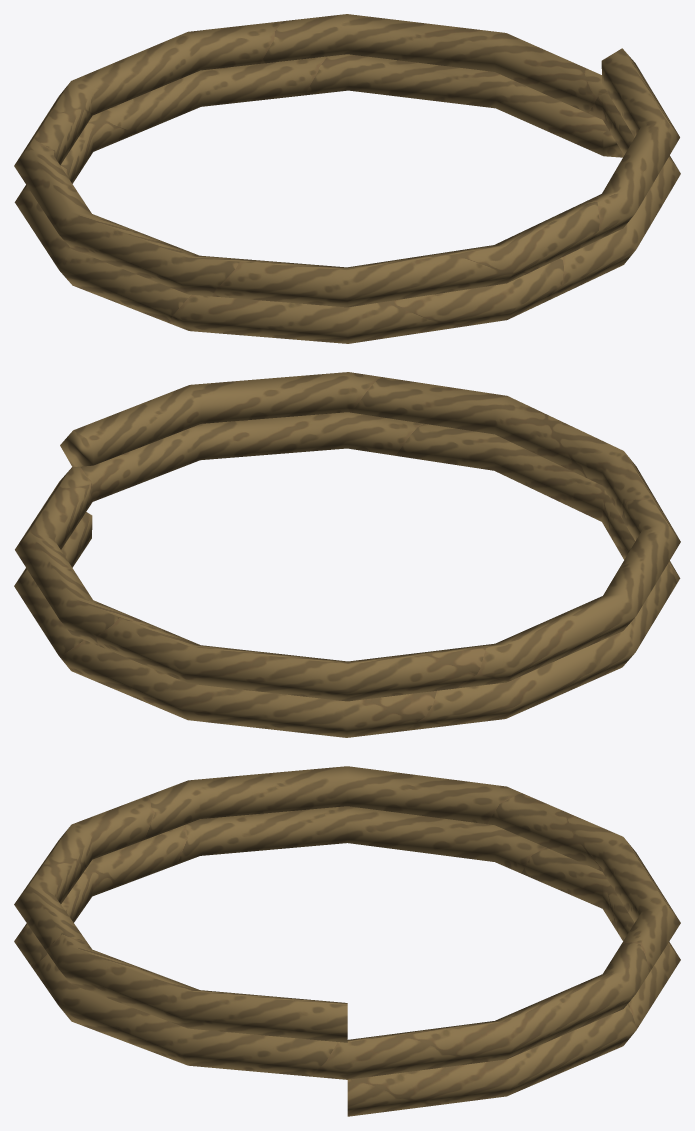
Rendered from Rope.fbx.
3 renders of one model, top to bottom at view 1: azimuth 30°, elevation 25°; view 2: azimuth 150°, elevation 25°; view 3: azimuth 270°, elevation 25°, orthographic.
Visible parts, largest first — view 1: _Rope; view 2: _Rope; view 3: _Rope.
Part boxes in pixels (box(x1,y1,x2,y2)): _Rope: box(14, 14, 680, 343); _Rope: box(14, 372, 680, 737); _Rope: box(14, 766, 680, 1116).
Bounding box in the file's own units: 84.61 × 15.4 × 84.47.
